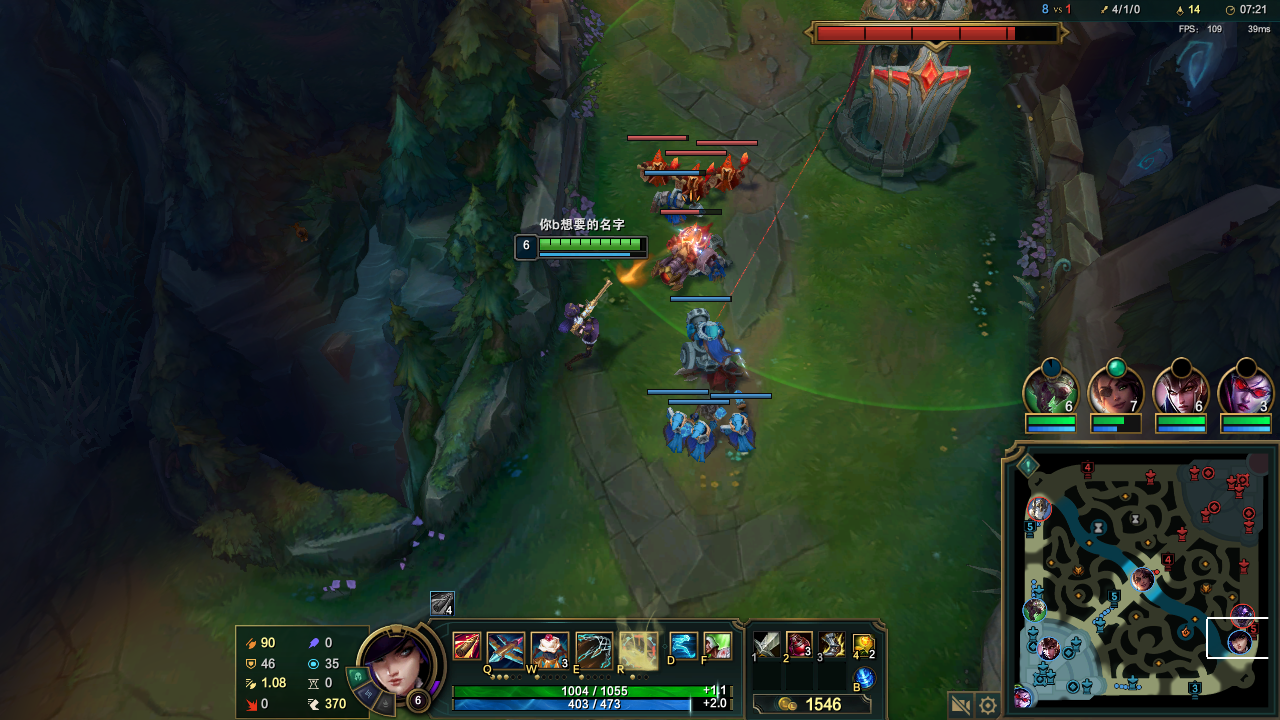DFFYT: (813, 7, 988, 178)
DFXB: (664, 227, 709, 277), (715, 159, 747, 194), (640, 155, 671, 181), (684, 167, 706, 198)
WFXB: (679, 312, 732, 371), (723, 413, 760, 449), (662, 412, 688, 444), (689, 422, 715, 453), (664, 189, 690, 215)
